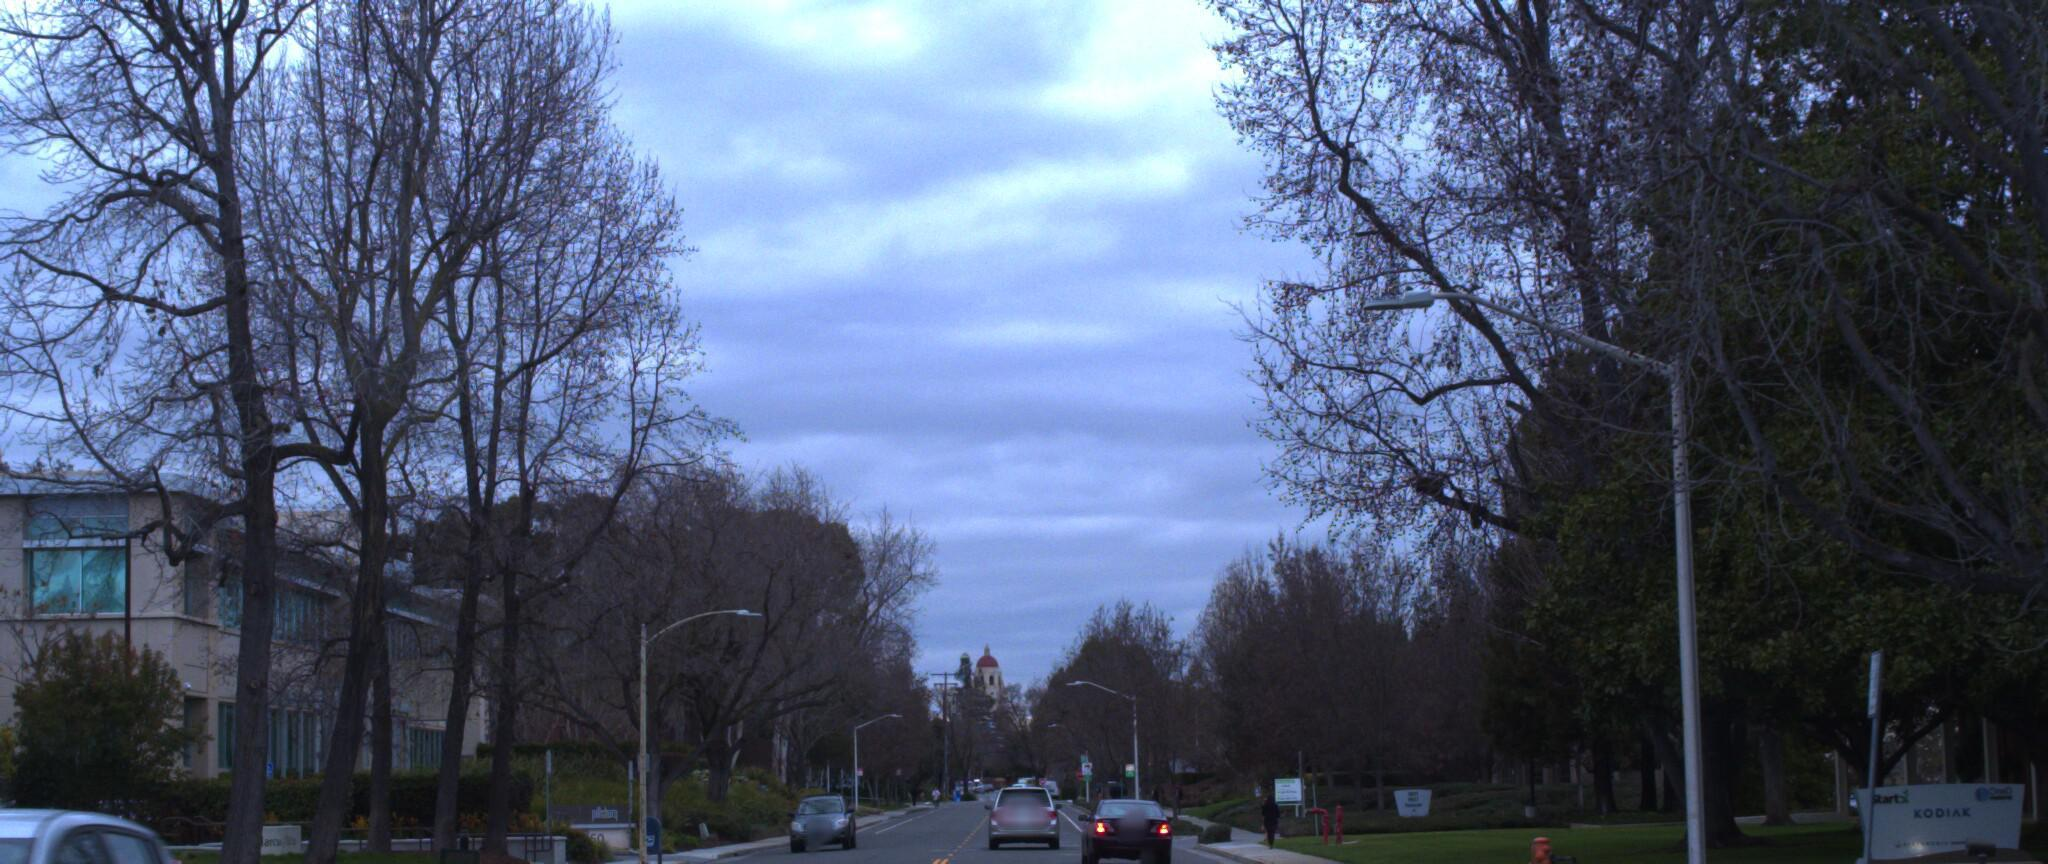car: (0, 795, 263, 864), (1070, 792, 1172, 864), (991, 767, 1068, 833)
